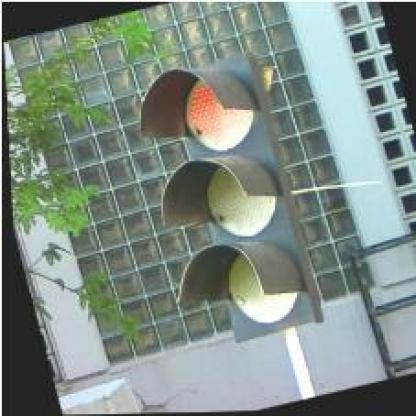red: (137, 50, 322, 350)
